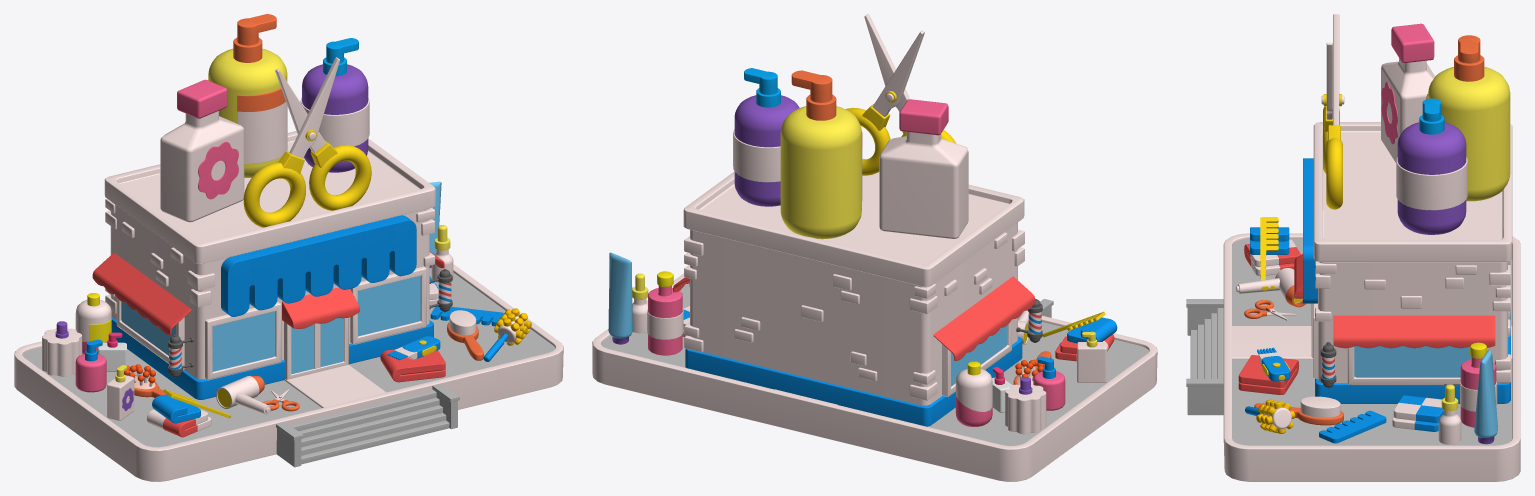
File: Public_Island_15.glb
3 renders of one model, left to right at view 1: azimuth 30°, elevation 25°; view 2: azimuth 150°, elevation 25°; view 3: azimuth 270°, elevation 25°, orthographic. The views are drawn at different scales.
Parts seen in each view (by area): view 1: Public_15_Hair_Salon_1, Public_15_Base_1, Public_15_Bottle_2, Public_15_Big_Bottle_1, Public_15_Big_Scissors_1, Public_15_Big_Bottle_2, Public_15_Bottle_3, Public_15_Bottle_7, Public_15_Towel_2, Public_15_Bottle_8, Public_15_Hairdryer_1, Public_15_Bottle_4 (+11 smaller); view 2: Public_15_Hair_Salon_1, Public_15_Base_1, Public_15_Big_Bottle_1, Public_15_Bottle_2, Public_15_Big_Bottle_2, Public_15_Big_Scissors_1, Public_15_Bottle_6, Public_15_Bottle_7, Public_15_Bottle_5, Public_15_Bottle_3, Public_15_Bottle_4, Public_15_Bottle_8 (+3 smaller); view 3: Public_15_Hair_Salon_1, Public_15_Base_1, Public_15_Big_Bottle_1, Public_15_Big_Bottle_2, Public_15_Bottle_2, Public_15_Big_Scissors_1, Public_15_Bottle_5, Public_15_Towel_3, Public_15_Bottle_6, Public_15_Towel_2, Public_15_Hairbrush_1, Public_15_Hairbrush_5 (+9 smaller).
Boxes of the visible parts, box(x1,y1,x2,y2) form: Public_15_Hair_Salon_1: box(92, 131, 444, 399); Public_15_Base_1: box(14, 264, 563, 481); Public_15_Bottle_2: box(160, 79, 244, 222); Public_15_Big_Bottle_1: box(208, 14, 287, 177); Public_15_Big_Scissors_1: box(243, 57, 371, 227); Public_15_Big_Bottle_2: box(300, 38, 369, 172); Public_15_Bottle_3: box(42, 321, 82, 376); Public_15_Bottle_7: box(75, 293, 111, 354); Public_15_Towel_2: box(380, 349, 445, 382); Public_15_Bottle_8: box(75, 339, 106, 392); Public_15_Hairdryer_1: box(216, 376, 270, 414); Public_15_Bottle_4: box(107, 365, 134, 420); Public_15_Hair_Salon_1: box(673, 158, 1035, 426); Public_15_Base_1: box(592, 273, 1157, 481); Public_15_Big_Bottle_1: box(780, 70, 862, 239); Public_15_Bottle_2: box(879, 99, 968, 238); Public_15_Big_Bottle_2: box(733, 68, 799, 206); Public_15_Big_Scissors_1: box(846, 14, 956, 175); Public_15_Bottle_6: box(647, 271, 683, 355); Public_15_Bottle_7: box(955, 361, 992, 426); Public_15_Bottle_5: box(608, 252, 632, 344); Public_15_Bottle_3: box(1005, 377, 1046, 434); Public_15_Bottle_4: box(1077, 331, 1106, 382); Public_15_Bottle_8: box(1033, 356, 1065, 410); Public_15_Hair_Salon_1: box(1294, 122, 1512, 403); Public_15_Base_1: box(1186, 233, 1520, 481); Public_15_Big_Bottle_1: box(1426, 35, 1510, 201); Public_15_Big_Bottle_2: box(1396, 98, 1467, 234); Public_15_Bottle_2: box(1381, 23, 1435, 163); Public_15_Big_Scissors_1: box(1321, 14, 1344, 209); Public_15_Bottle_5: box(1474, 349, 1497, 444); Public_15_Towel_3: box(1392, 395, 1443, 431); Public_15_Bottle_6: box(1460, 342, 1497, 427); Public_15_Towel_2: box(1238, 355, 1299, 394); Public_15_Hairbrush_1: box(1254, 396, 1343, 425); Public_15_Hairbrush_5: box(1245, 399, 1295, 433).
Size of the model in its own units: 18.35 by 13.72 by 12.02.
29 materials, 29 textured.
